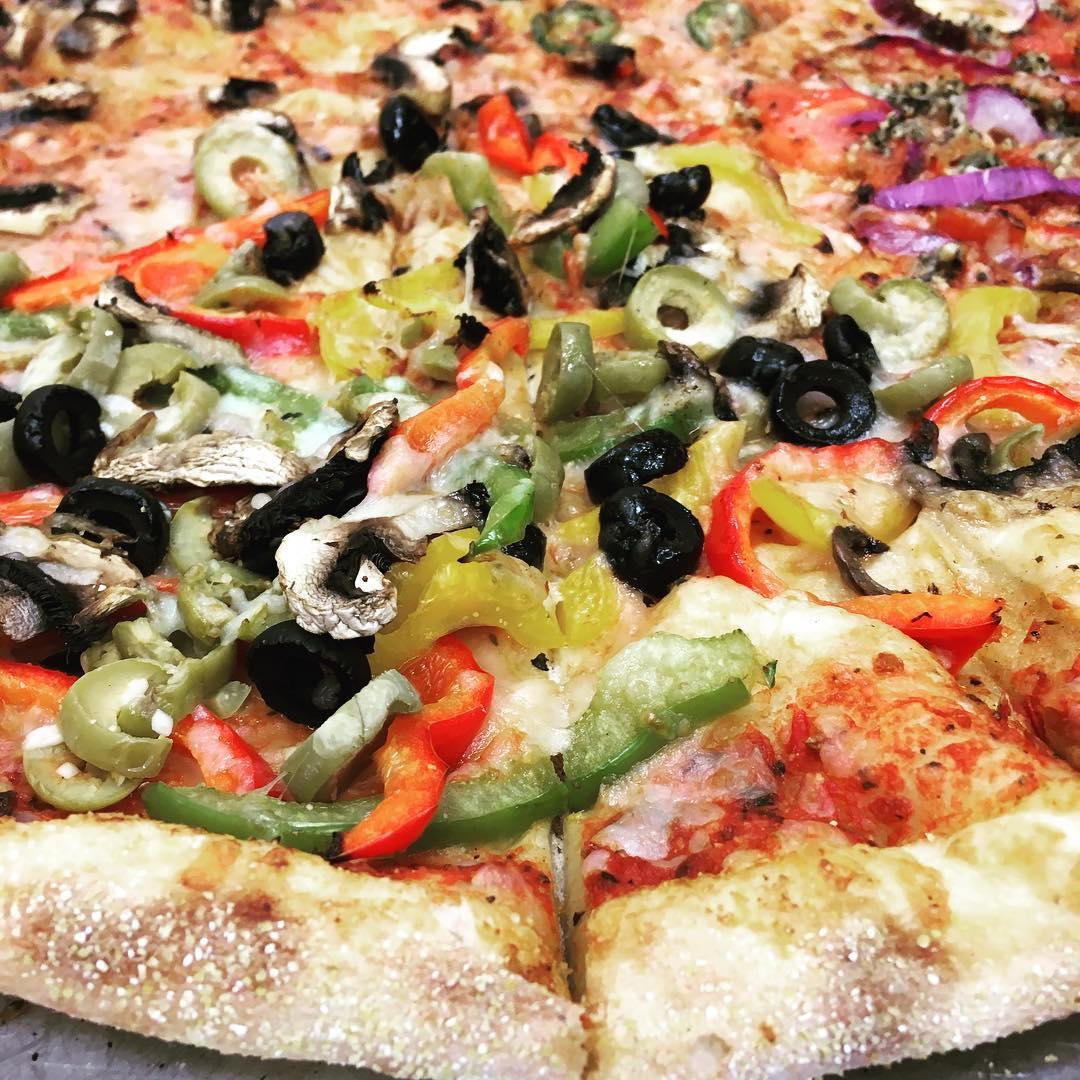Mushroom: (273, 487, 481, 632), (0, 523, 161, 651), (92, 276, 246, 369), (85, 436, 308, 484), (369, 26, 479, 103), (0, 178, 93, 244), (737, 267, 819, 339), (52, 0, 138, 59), (327, 150, 384, 228), (0, 88, 98, 120), (206, 0, 281, 38), (196, 75, 278, 106)
Olives: (12, 656, 183, 809), (0, 312, 204, 424), (122, 562, 293, 683), (694, 336, 879, 447), (583, 427, 701, 594), (524, 308, 668, 411), (52, 474, 174, 578), (816, 258, 949, 352), (186, 126, 305, 217), (620, 262, 735, 354), (870, 347, 977, 414), (16, 384, 86, 476), (466, 217, 530, 313), (261, 213, 326, 279), (166, 480, 218, 555), (596, 101, 670, 151), (822, 310, 877, 370), (654, 166, 712, 219)
Onion: (867, 171, 1080, 207), (956, 85, 1043, 152), (870, 223, 957, 267)
Peppers: (441, 624, 762, 845), (712, 375, 1080, 490), (0, 185, 322, 311), (331, 631, 492, 871), (361, 558, 629, 678), (434, 166, 654, 283), (145, 778, 442, 852), (318, 256, 469, 384), (666, 128, 822, 249), (791, 580, 1005, 649), (518, 383, 721, 448), (172, 702, 295, 809), (700, 490, 792, 615), (469, 100, 578, 169), (518, 0, 620, 66), (684, 0, 760, 52)
Pizza: (0, 0, 1080, 1080)
